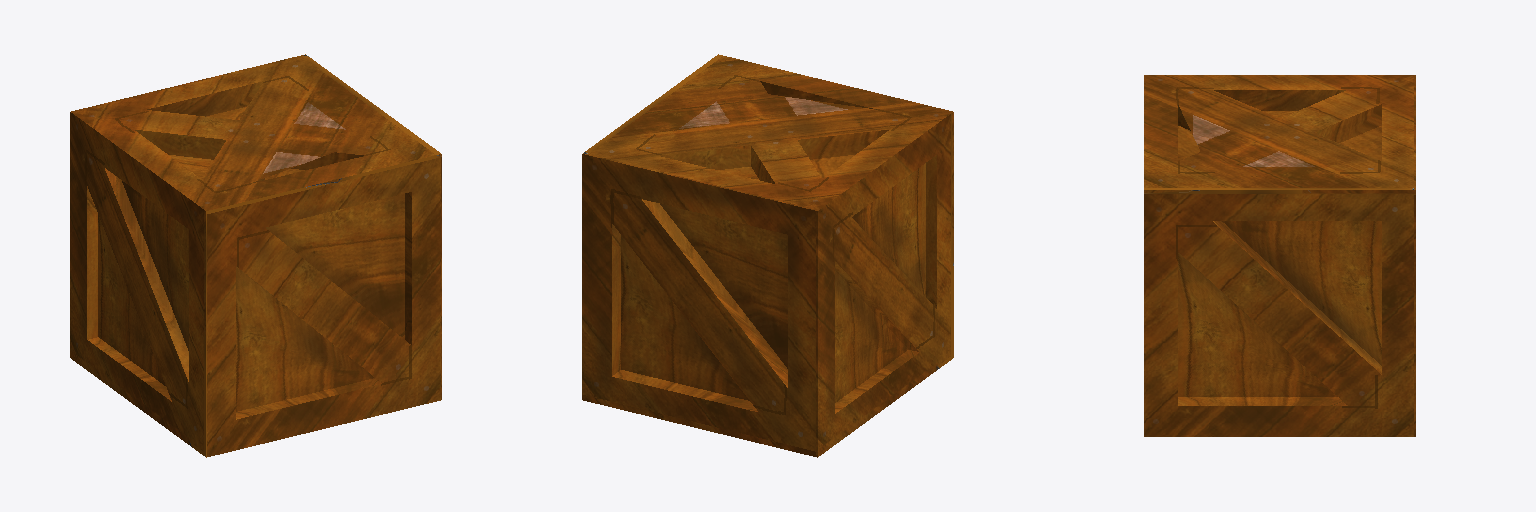
The picture shows the model from 3 angles: view 1: azimuth 30°, elevation 25°; view 2: azimuth 150°, elevation 25°; view 3: azimuth 270°, elevation 25°; orthographic projection.
Parts seen in each view (by area): view 1: Cube.001; view 2: Cube.001; view 3: Cube.001.
Boxes of the visible parts, x1=… form: Cube.001: x1=70, y1=54, x2=441, y2=457; Cube.001: x1=582, y1=54, x2=953, y2=457; Cube.001: x1=1144, y1=75, x2=1415, y2=436.
Bounding box in the file's own units: 2 × 2 × 2.
1 materials, 1 textured.